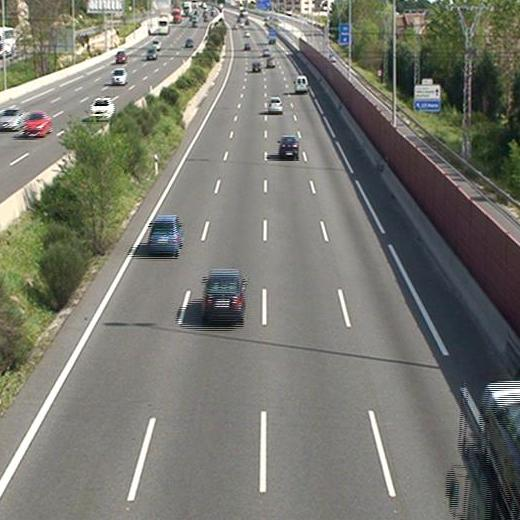car: (202, 270, 245, 321), (147, 215, 182, 254), (278, 135, 299, 158), (268, 95, 283, 111), (251, 61, 261, 71), (266, 56, 276, 66)
van: (294, 76, 308, 94)
